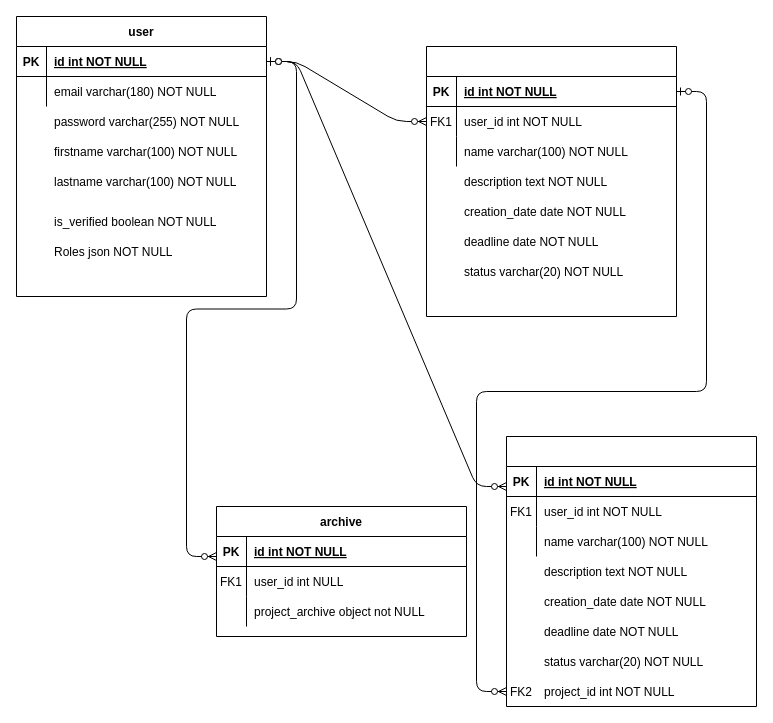
The diagram is 773 pixels wide and 723 high, and some of its shapes have lost their labels. The shapes that lost their labels are listed below. From the top down, each one's box as (x1, y1, x2, y2) in pixels, then its label:
(426, 46, 676, 316): project
(506, 436, 756, 706): task
